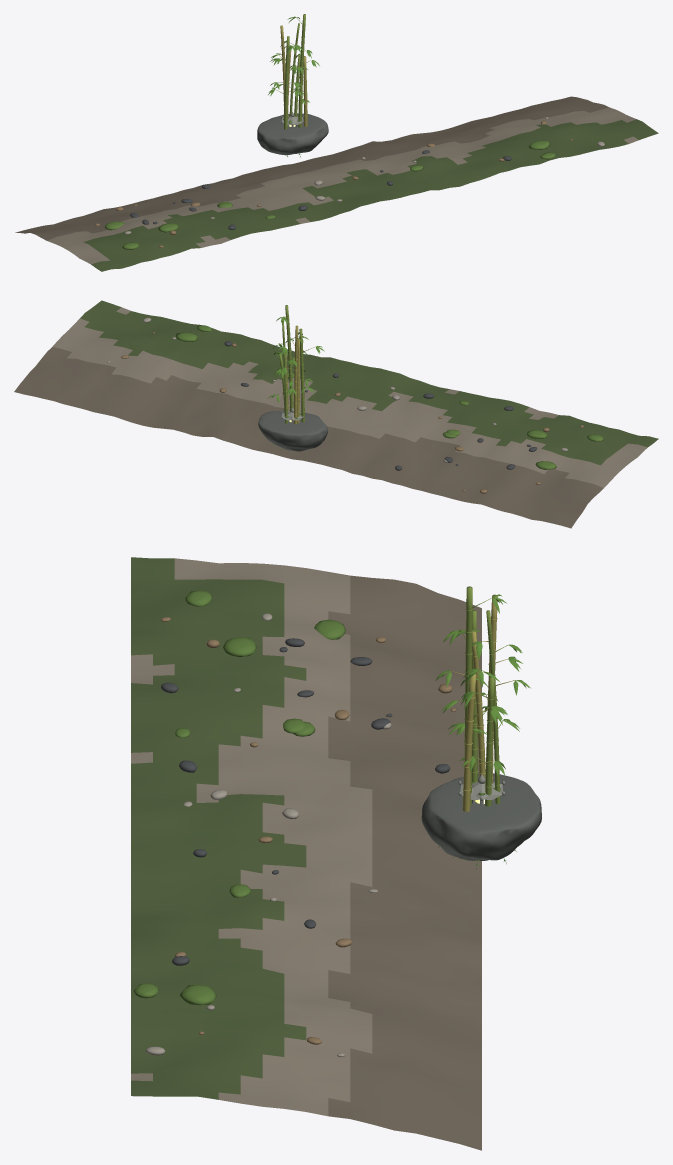
The model's file is cairn.glb.
The picture shows the model from 3 angles, top to bottom: view 1: azimuth 30°, elevation 25°; view 2: azimuth 150°, elevation 25°; view 3: azimuth 270°, elevation 25°; orthographic projection. The views are drawn at different scales.
Parts seen in each view (by area): view 1: Orilla, Bambu, Roca base; view 2: Orilla, Bambu, Roca base; view 3: Orilla, Roca base, Bambu.
Part boxes in pixels (<box>): Orilla: <box>15,96,658,271</box>; Bambu: <box>268,14,319,129</box>; Roca base: <box>257,113,328,155</box>; Orilla: <box>14,300,658,528</box>; Bambu: <box>268,305,324,423</box>; Roca base: <box>258,410,328,451</box>; Orilla: <box>131,557,481,1150</box>; Roca base: <box>421,773,541,860</box>; Bambu: <box>435,586,530,859</box>.
Size of the model in its own units: 22 by 5.75 by 7.03.
